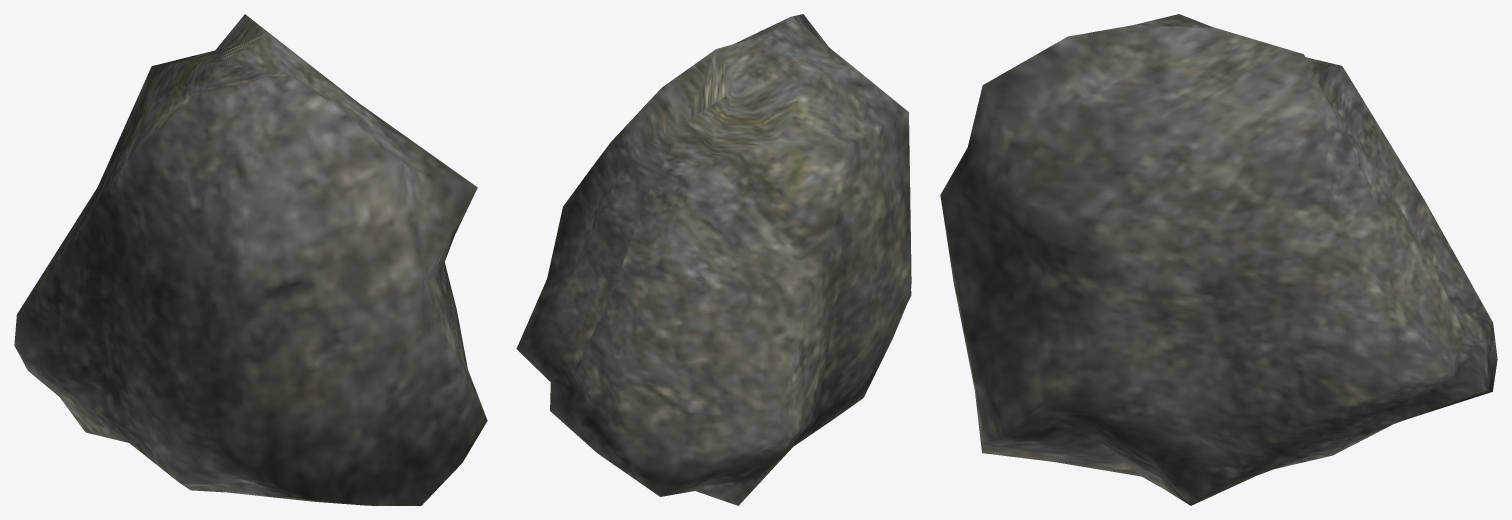
The model's file is dark_rock_004.fbx.
3 renders of one model, left to right at view 1: azimuth 30°, elevation 25°; view 2: azimuth 150°, elevation 25°; view 3: azimuth 270°, elevation 25°, orthographic. The views are drawn at different scales.
Parts seen in each view (by area): view 1: dark_rock.004; view 2: dark_rock.004; view 3: dark_rock.004.
Part boxes in pixels (bbox=[...]): dark_rock.004: bbox=[14, 14, 487, 505]; dark_rock.004: bbox=[516, 14, 911, 505]; dark_rock.004: bbox=[940, 14, 1497, 505].
Size of the model in its own units: 106 by 148 by 170.
